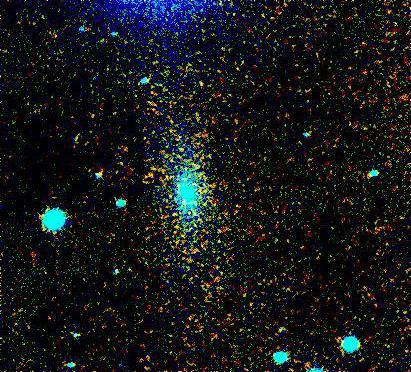star: (186, 73, 216, 103)
